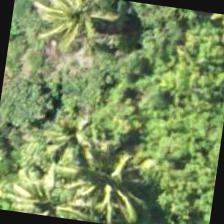Kelapa_Sawit: (38, 0, 136, 60)
